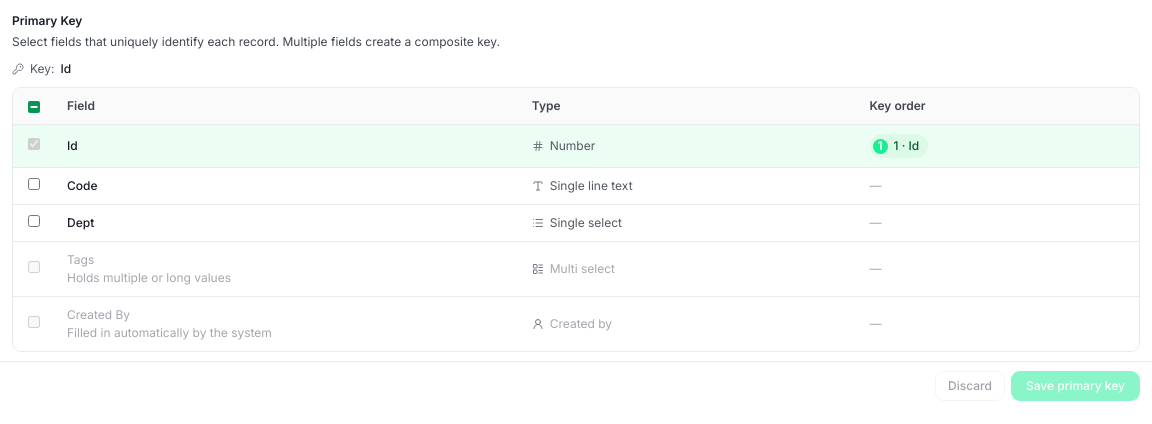
Test case: PrimaryKeyPanel › discards unsaved changes
The image size is (1152, 424).
Click the checkbox named "Use Code in the primary key": (34,184) [28,178,40,190]
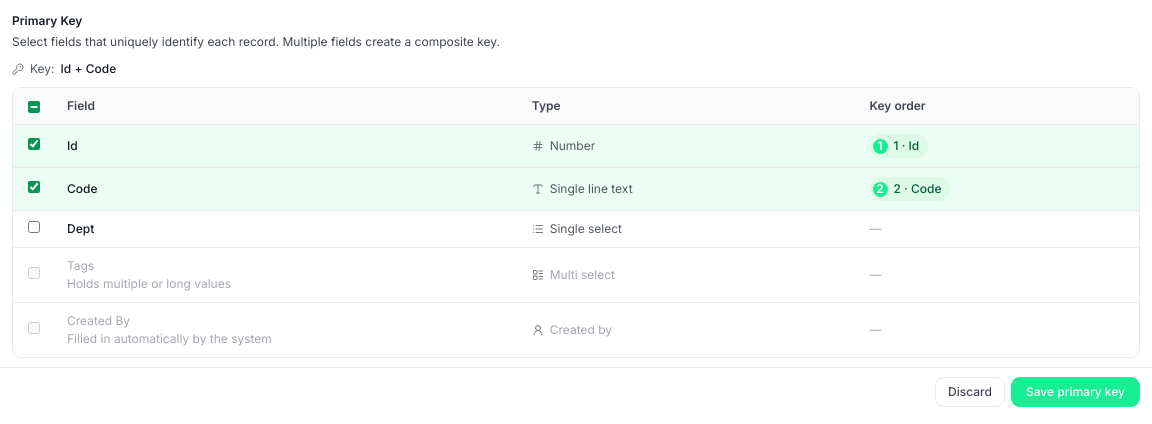
Click the button "Discard": (970,392) [935,377,1005,407]
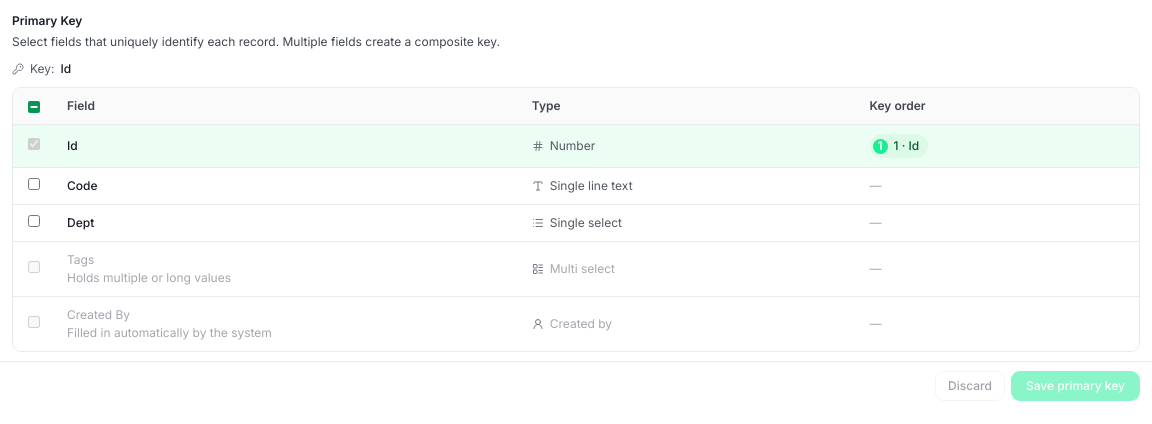
Expected: the button "Save primary key" is disabled, [1011,371,1140,401]
